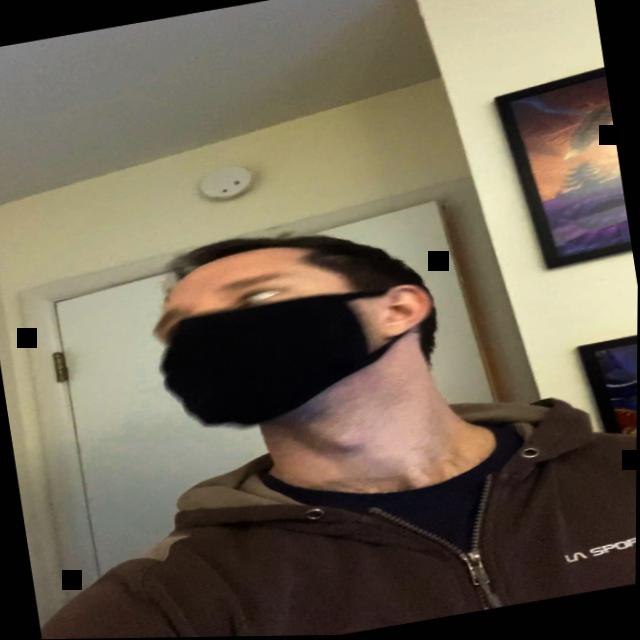Mask: (131, 212, 452, 453)
